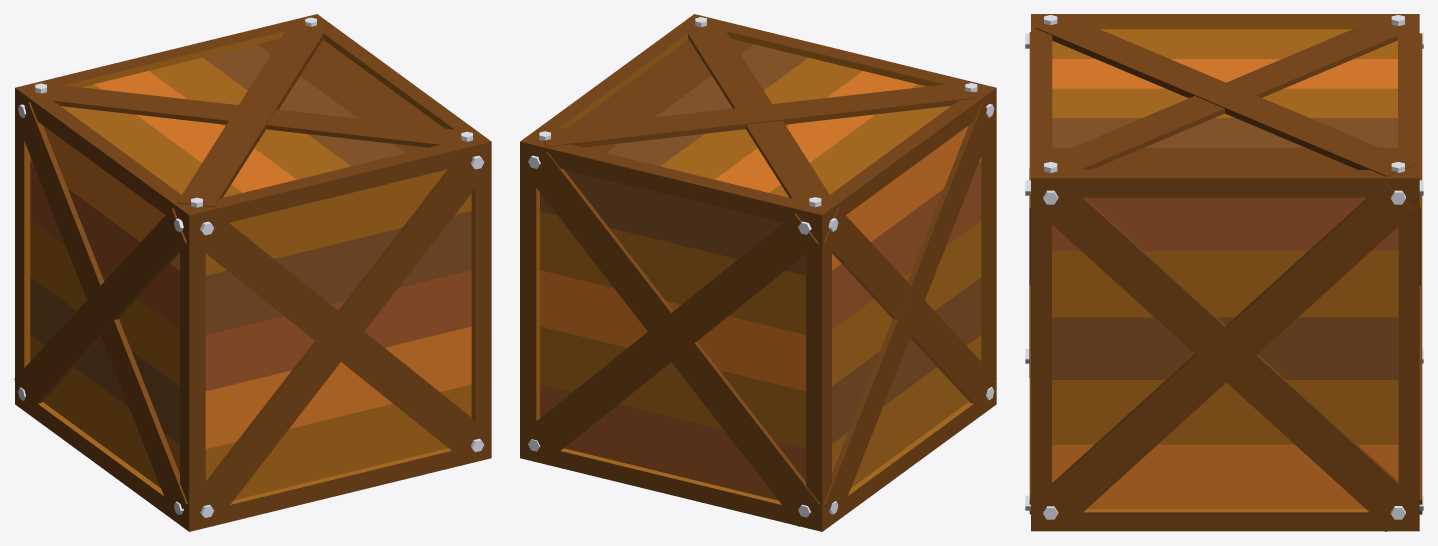
Rendered from caixa.fbx.
3 views of the same model, side by side, from view 1: azimuth 30°, elevation 25°; view 2: azimuth 150°, elevation 25°; view 3: azimuth 270°, elevation 25° (orthographic). The views are drawn at different scales.
Visible parts, largest first — view 1: caixa; view 2: caixa; view 3: caixa.
Part boxes in pixels (<box>): caixa: <box>14,14,491,531</box>; caixa: <box>520,14,996,531</box>; caixa: <box>1025,14,1423,531</box>.
Size of the model in its own units: 103 by 103 by 103.
